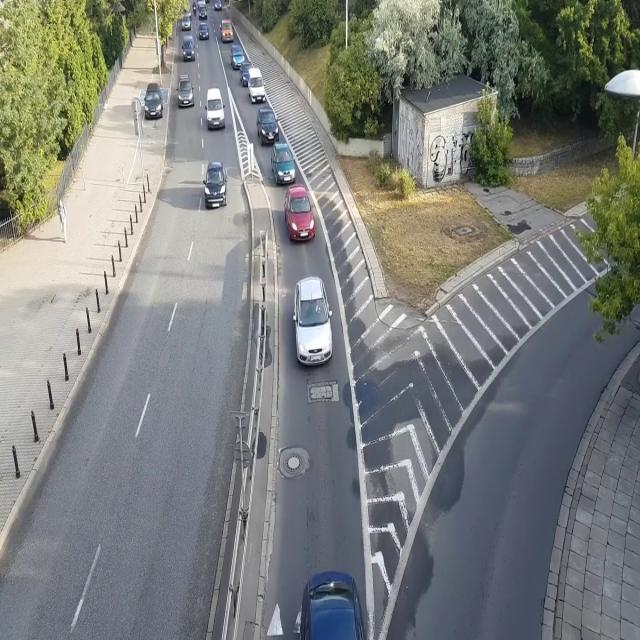car: (297, 567, 367, 640), (292, 276, 334, 367), (282, 185, 316, 241), (202, 162, 230, 208), (255, 105, 281, 148), (270, 142, 296, 184), (143, 83, 165, 120), (176, 73, 195, 109), (229, 44, 245, 68), (219, 18, 234, 43), (239, 61, 253, 86), (197, 23, 210, 40), (182, 13, 191, 30), (199, 6, 208, 20), (213, 0, 223, 10)
motorcycle: (192, 1, 197, 18)
van: (204, 86, 226, 132), (246, 68, 268, 103), (181, 36, 196, 61)
